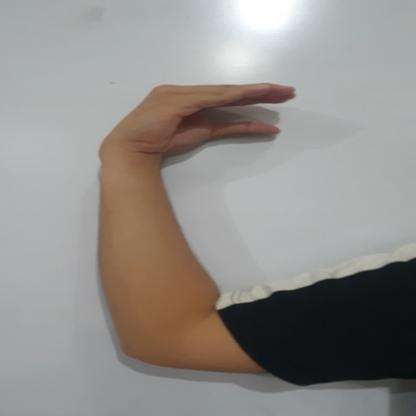Pagi: (91, 82, 299, 159)
